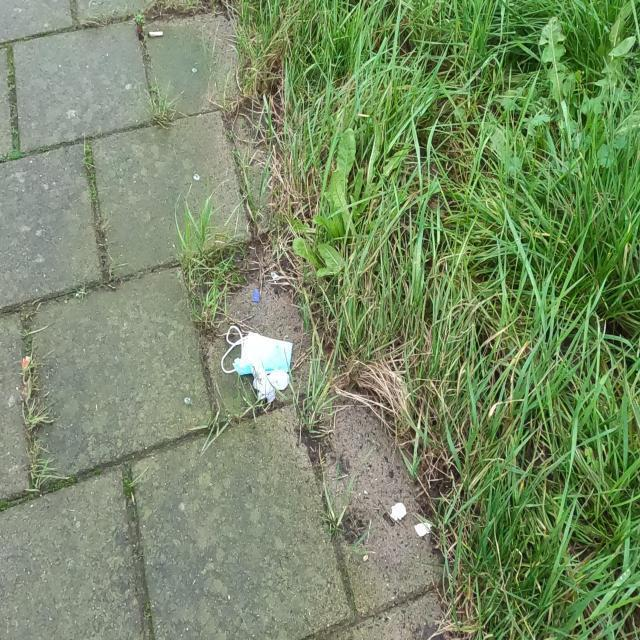Mask: (220, 322, 294, 404)
